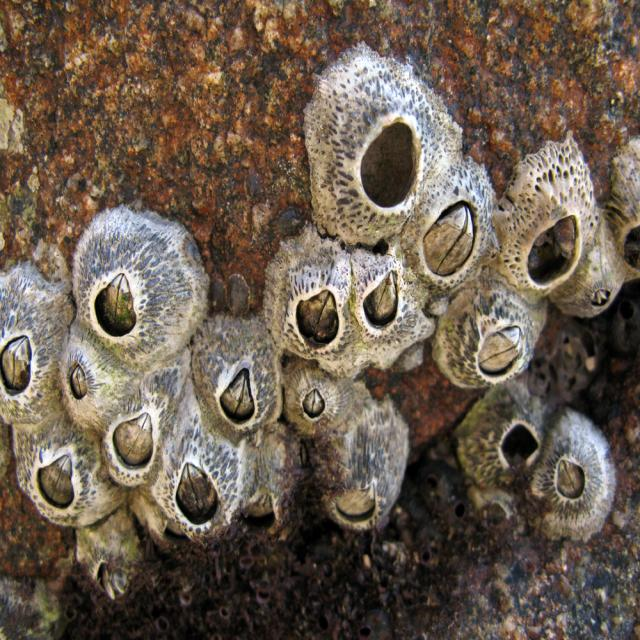barnacles: (316, 39, 428, 245), (70, 206, 207, 370), (431, 283, 546, 405), (507, 146, 588, 310), (316, 406, 413, 542), (147, 422, 249, 548), (532, 417, 616, 550), (266, 238, 350, 369), (191, 330, 286, 441), (1, 262, 63, 428), (348, 256, 426, 387), (15, 424, 116, 524), (458, 395, 548, 504), (412, 176, 500, 278), (102, 386, 172, 492), (52, 335, 125, 426), (274, 370, 352, 443)
